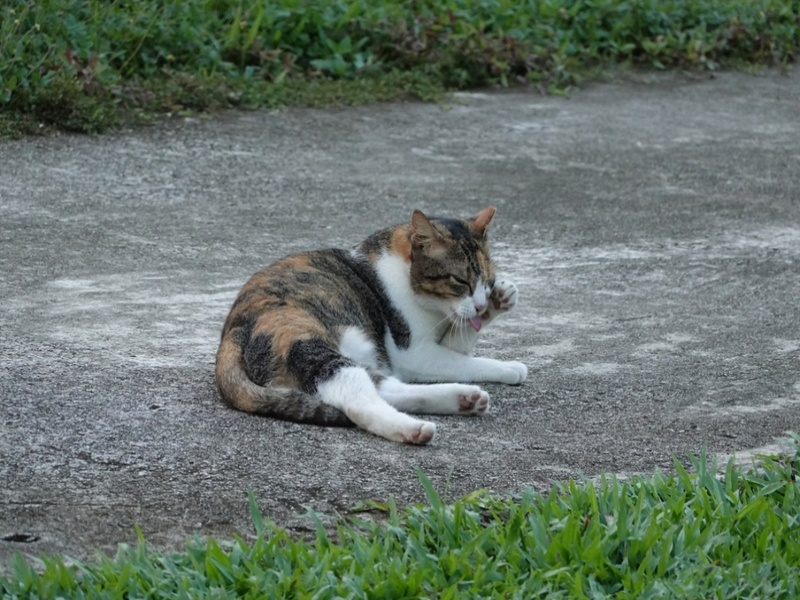cat: (217, 196, 532, 448)
